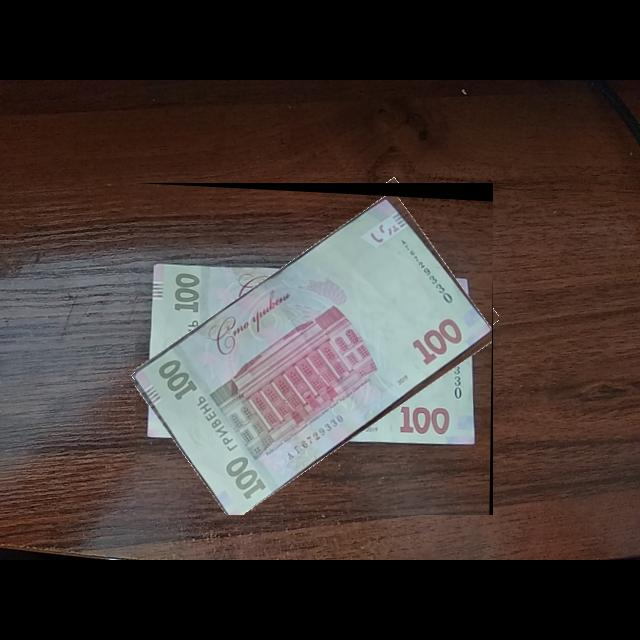100uah: (135, 193, 493, 516)
